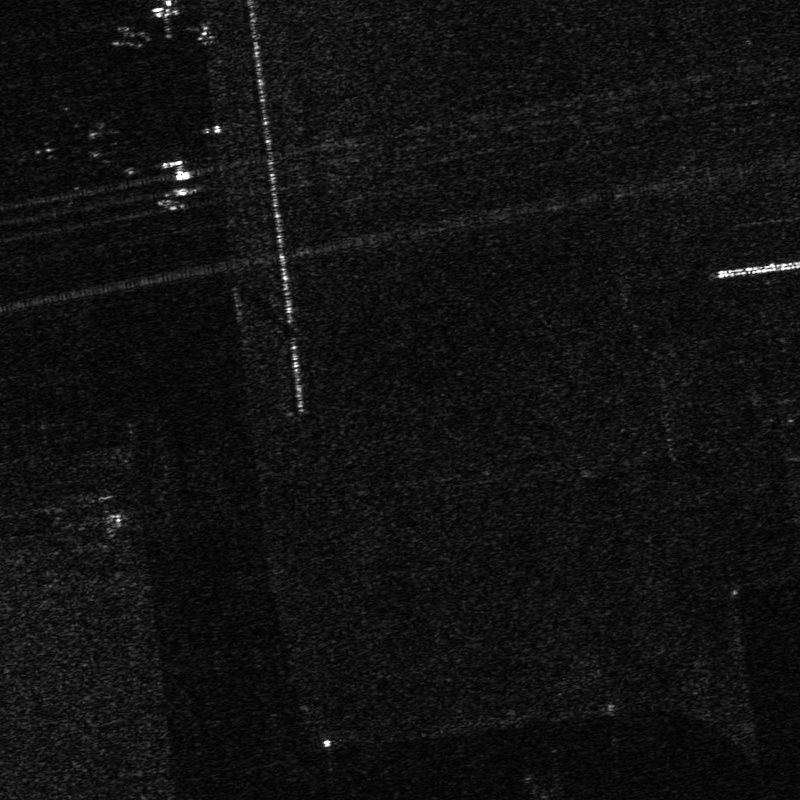Boeing787: (13, 89, 126, 210)
